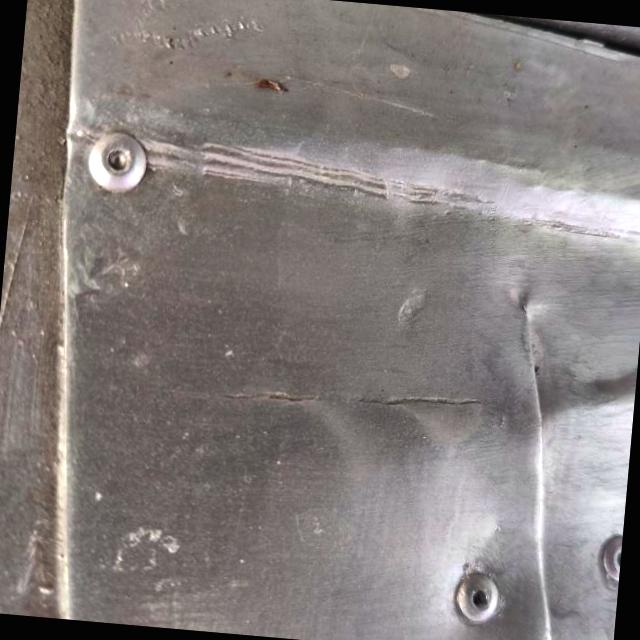scratch: (196, 309, 524, 491)
